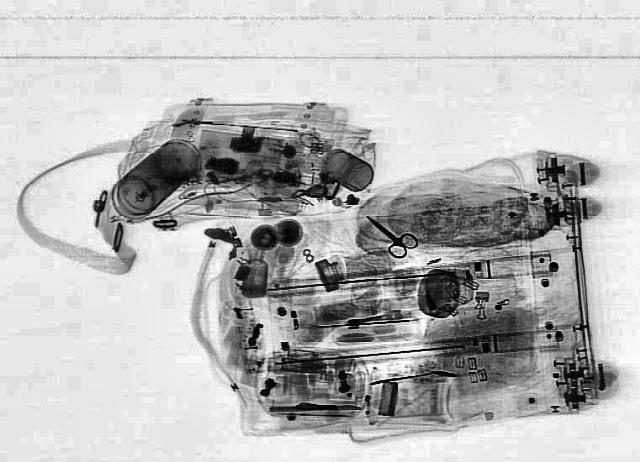Scissors: (350, 208, 424, 260)
